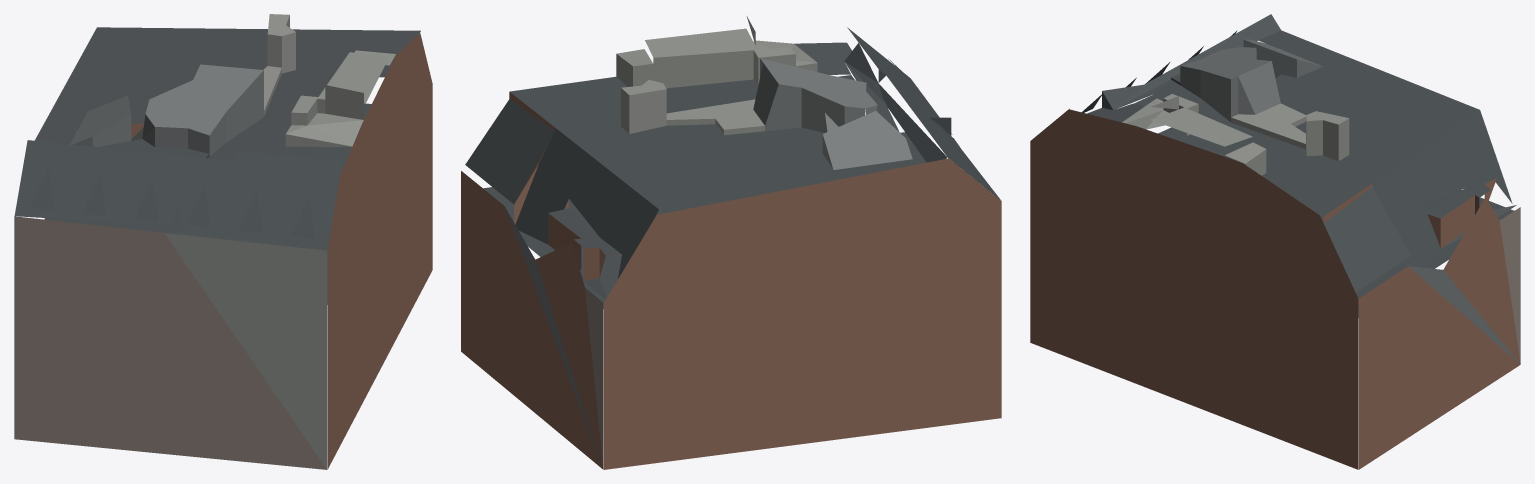
3 views of the same model, side by side, from view 1: azimuth 30°, elevation 25°; view 2: azimuth 150°, elevation 25°; view 3: azimuth 270°, elevation 25° (orthographic). The views are drawn at different scales.
Visible parts, largest first — view 1: lod2; view 2: lod2; view 3: lod2.
Part boxes in pixels (x1,y1,x2,y2): lod2: [14, 14, 432, 469]; lod2: [461, 16, 1001, 469]; lod2: [1030, 14, 1520, 469].
Size of the model in its own units: 39.11 by 23.69 by 37.1.
